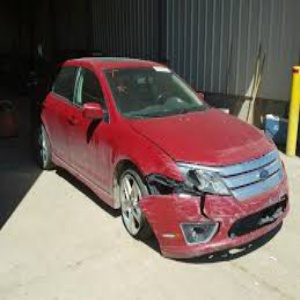bumper: (137, 191, 239, 261)
head_lights: (176, 161, 228, 197)
